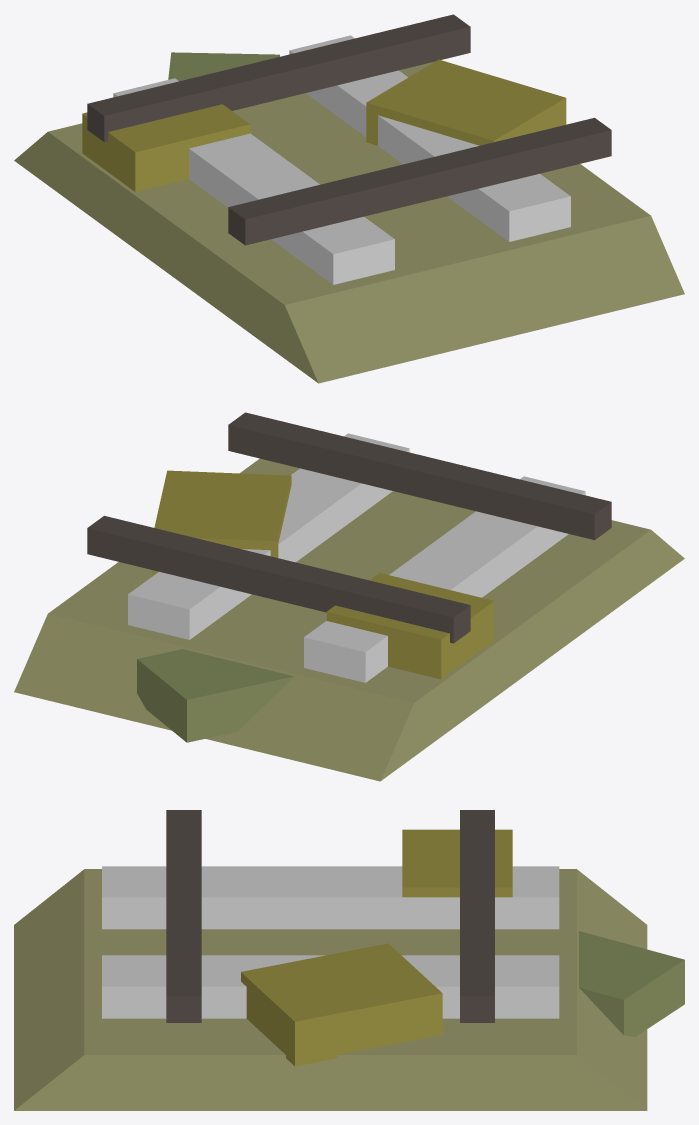
Rendered from SM_Via_Recta2_v2_Maleza_LOD1.fbx.
3 views of the same model, one above another, from view 1: azimuth 30°, elevation 25°; view 2: azimuth 150°, elevation 25°; view 3: azimuth 270°, elevation 25° (orthographic). The views are drawn at different scales.
Visible parts, largest first — view 1: SM_via_trazado_v7_LOD1; view 2: SM_via_trazado_v7_LOD1; view 3: SM_via_trazado_v7_LOD1.
Boxes of the visible parts, x1,y1,x2,y2 form: SM_via_trazado_v7_LOD1: [14, 14, 684, 383]; SM_via_trazado_v7_LOD1: [14, 412, 684, 781]; SM_via_trazado_v7_LOD1: [14, 810, 684, 1110].
Bounding box in the file's own units: 2.61 × 0.72 × 3.81.
